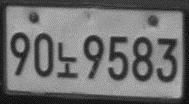0: (33, 33, 53, 77)
3: (156, 37, 177, 83)
5: (107, 35, 128, 81)
8: (131, 36, 154, 82)
9: (83, 34, 104, 79), (10, 31, 30, 76)
노: (56, 41, 79, 79)
